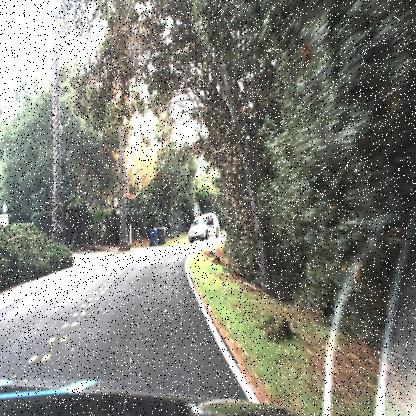car: (186, 209, 220, 244)
